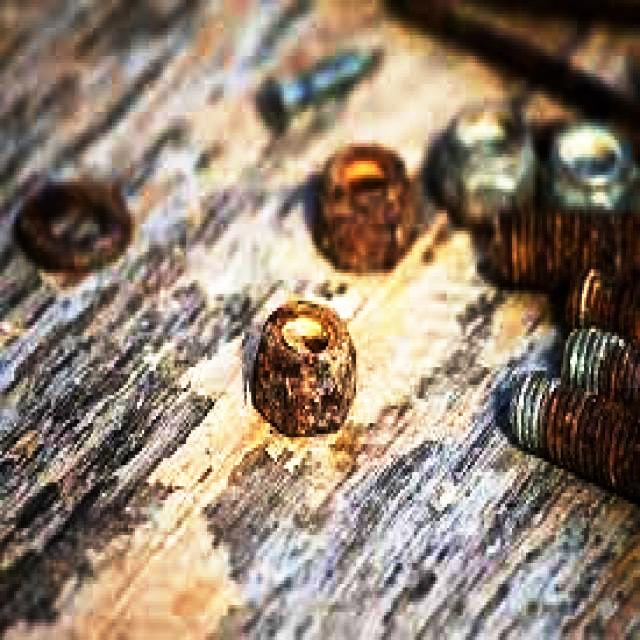Corrosion: (494, 203, 640, 516), (251, 300, 359, 435), (312, 144, 413, 273), (11, 179, 133, 274)
